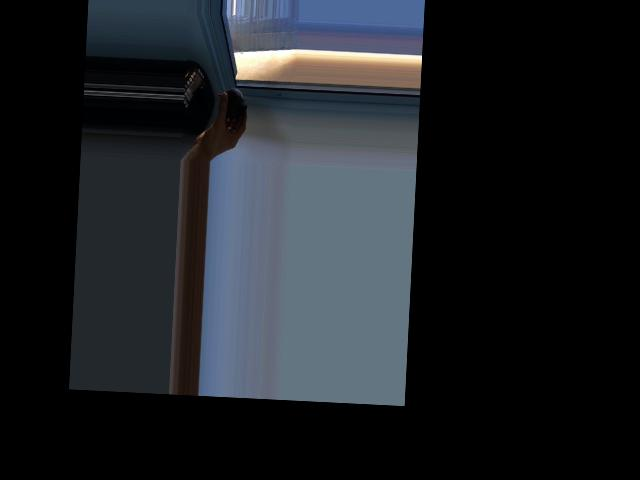beet: (215, 87, 247, 122)
